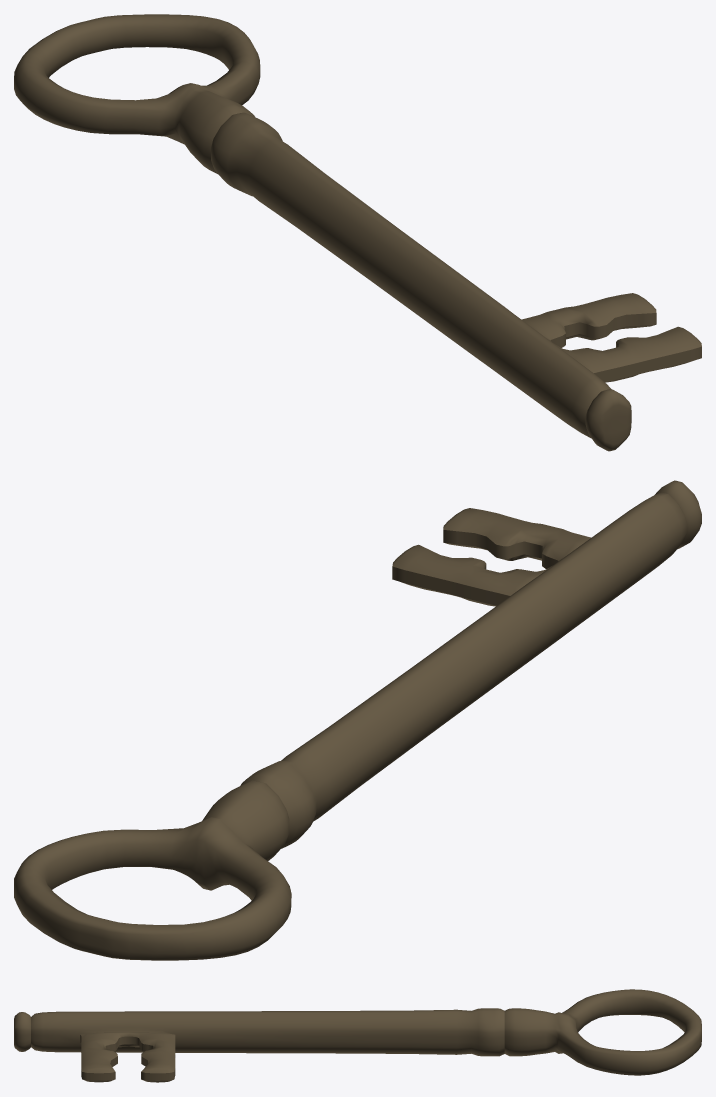
The model's file is Key.fbx.
3 views of the same model, one above another, from view 1: azimuth 30°, elevation 25°; view 2: azimuth 150°, elevation 25°; view 3: azimuth 270°, elevation 25° (orthographic). The views are drawn at different scales.
Visible parts, largest first — view 1: Key; view 2: Key; view 3: Key.
Part boxes in pixels (bbox=[...]): Key: bbox=[14, 14, 701, 451]; Key: bbox=[14, 480, 701, 960]; Key: bbox=[14, 989, 701, 1082].
Size of the model in its own units: 4.21 by 1.1 by 15.37.
